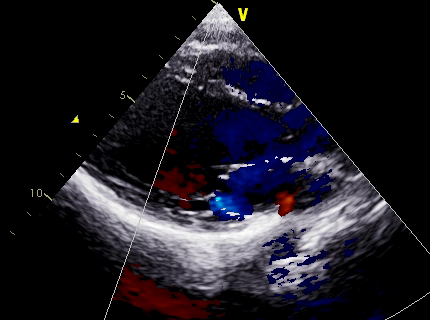MR: (160, 158, 250, 225)
